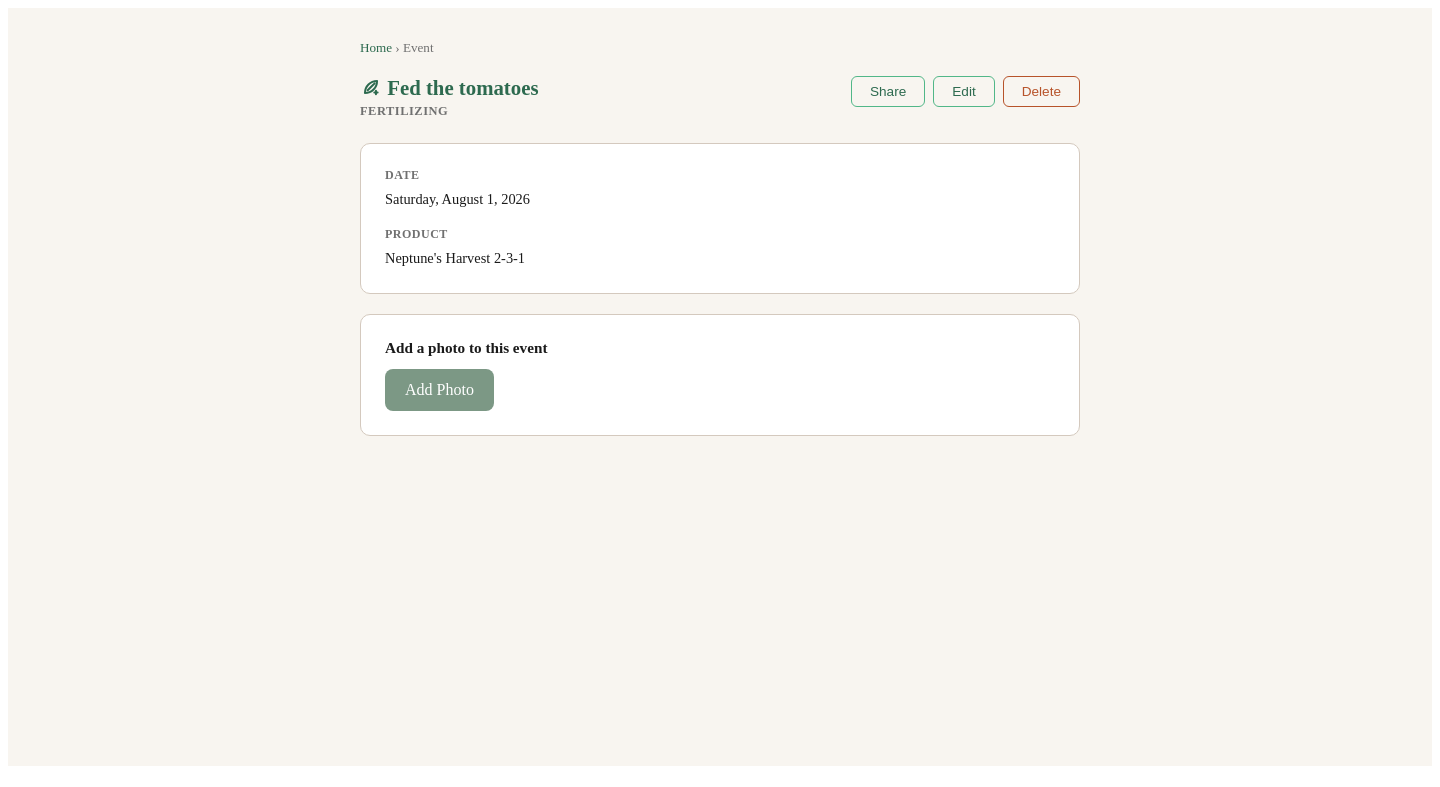
Test case: an unrelated edit round-trips the product, and the screen proves it › editing the title leaves the product on screen afterwards
Click the button "Edit" at coordinates (964, 92), box [933,76,995,107]
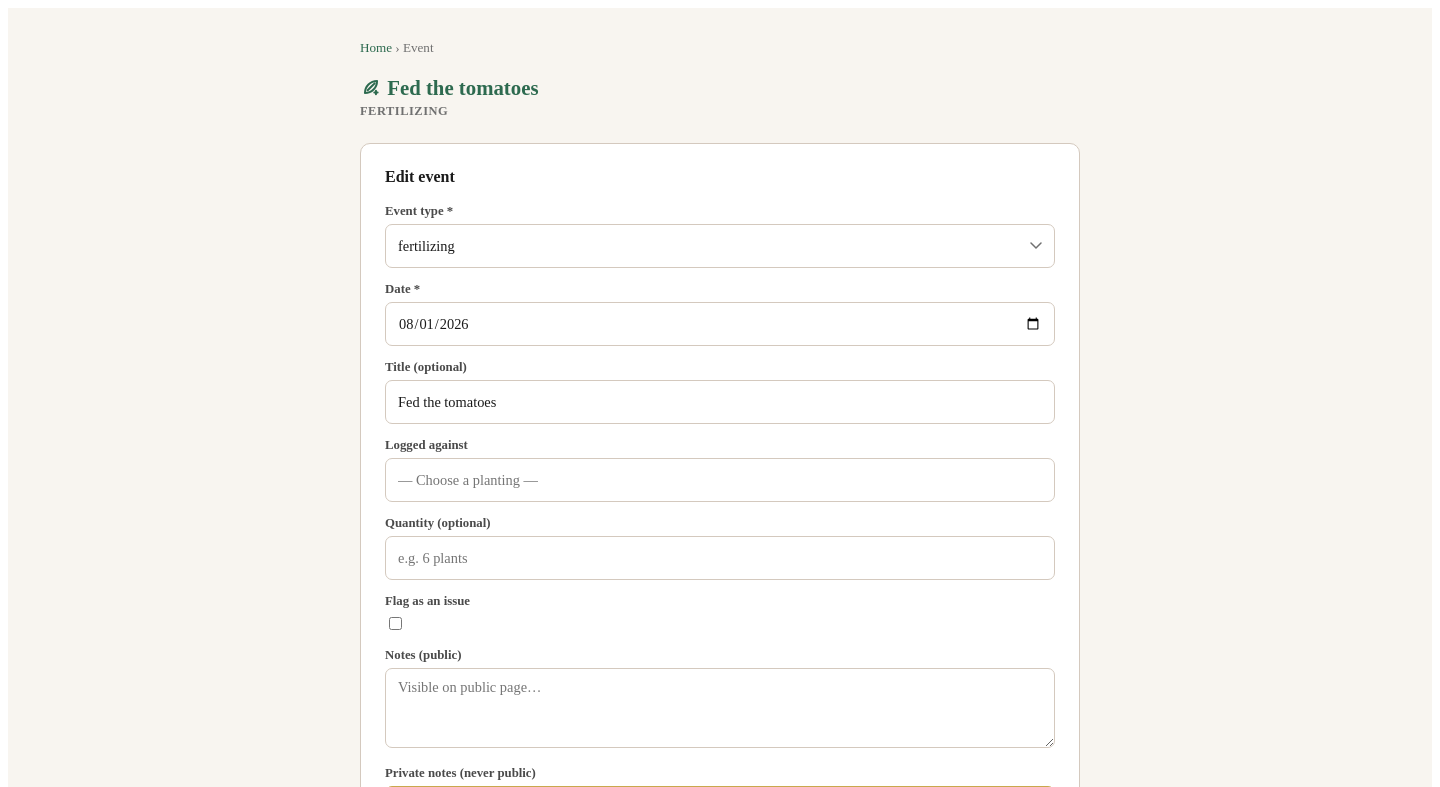
Replace the text in the field labelled "Title (optional)" with "Fed the tomatoes again" at coordinates (720, 402), box [385,380,1055,424]
(page scrolled)
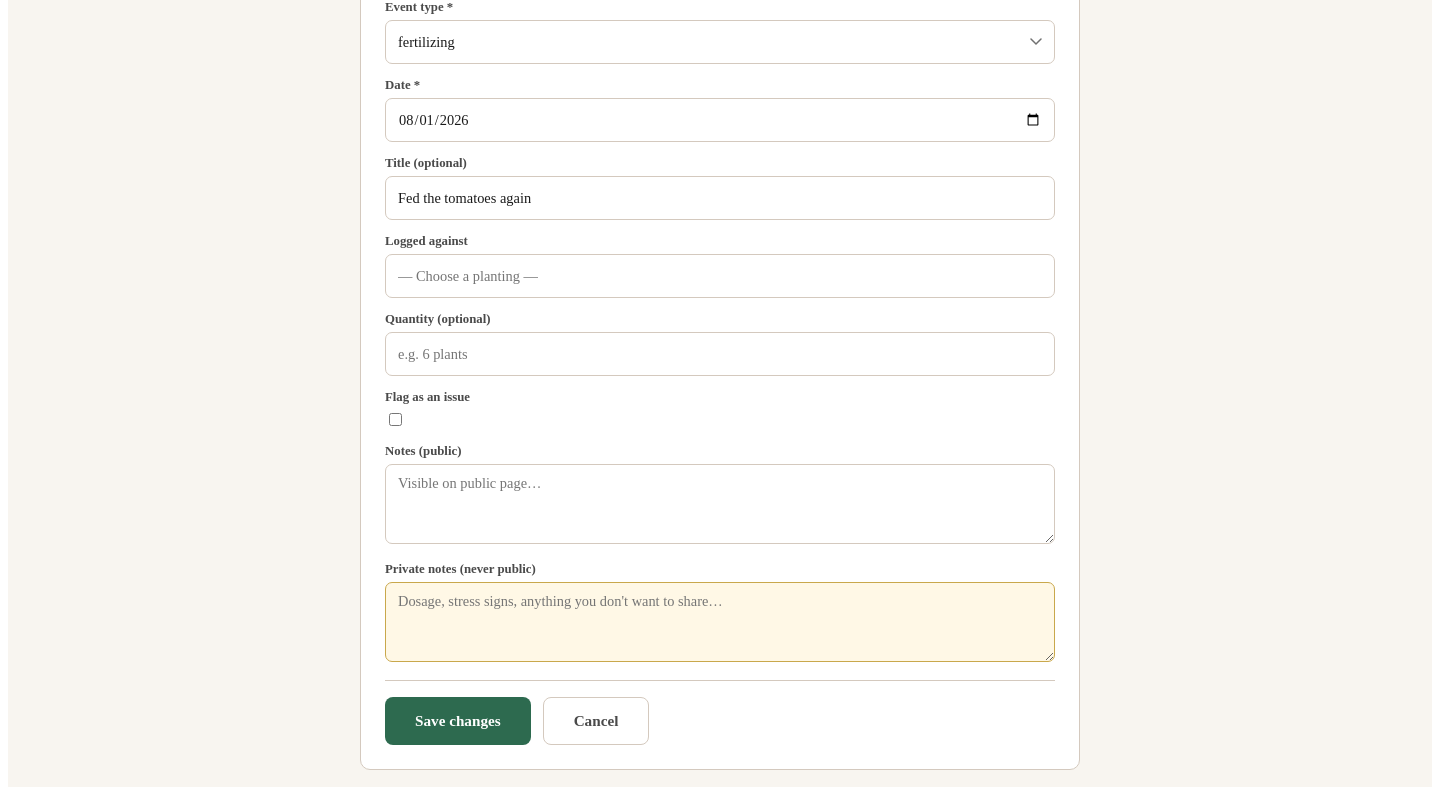
Click the button "Save changes" at coordinates (458, 721), box [385,697,531,745]
(page scrolled)
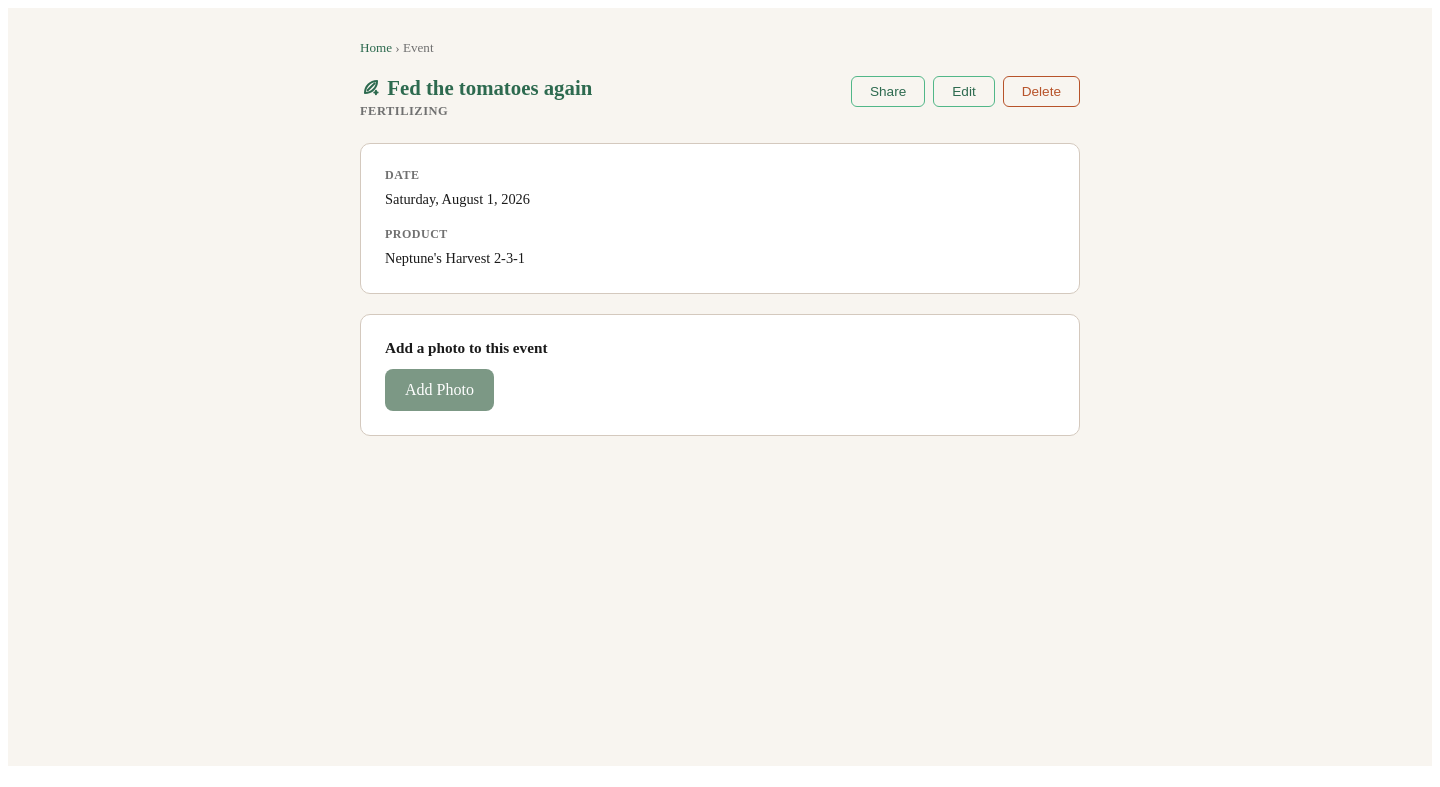
Expected: the text "Neptune's Harvest 2-3-1" is shown, [385,250,525,266]
